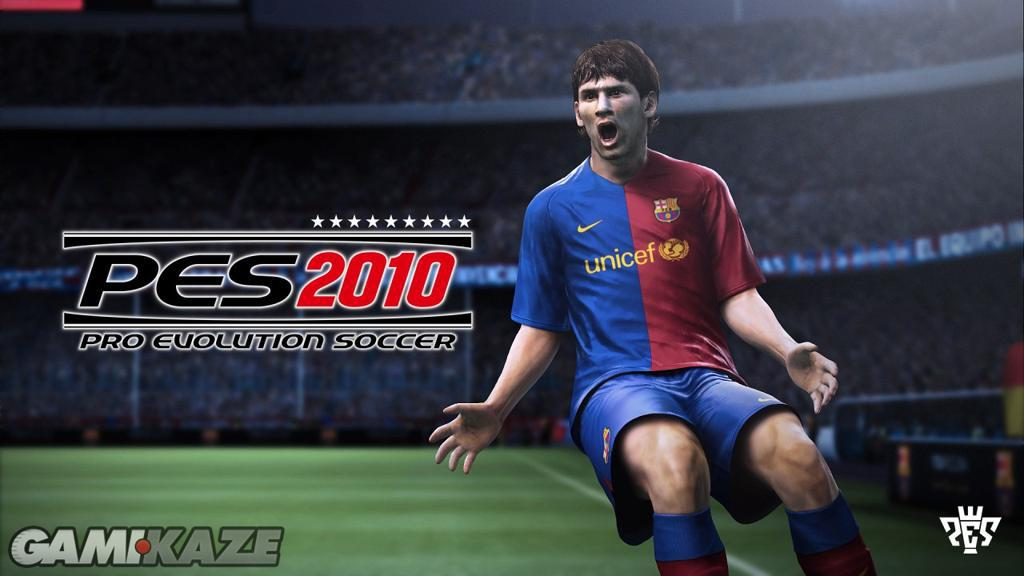face: (579, 63, 645, 159)
